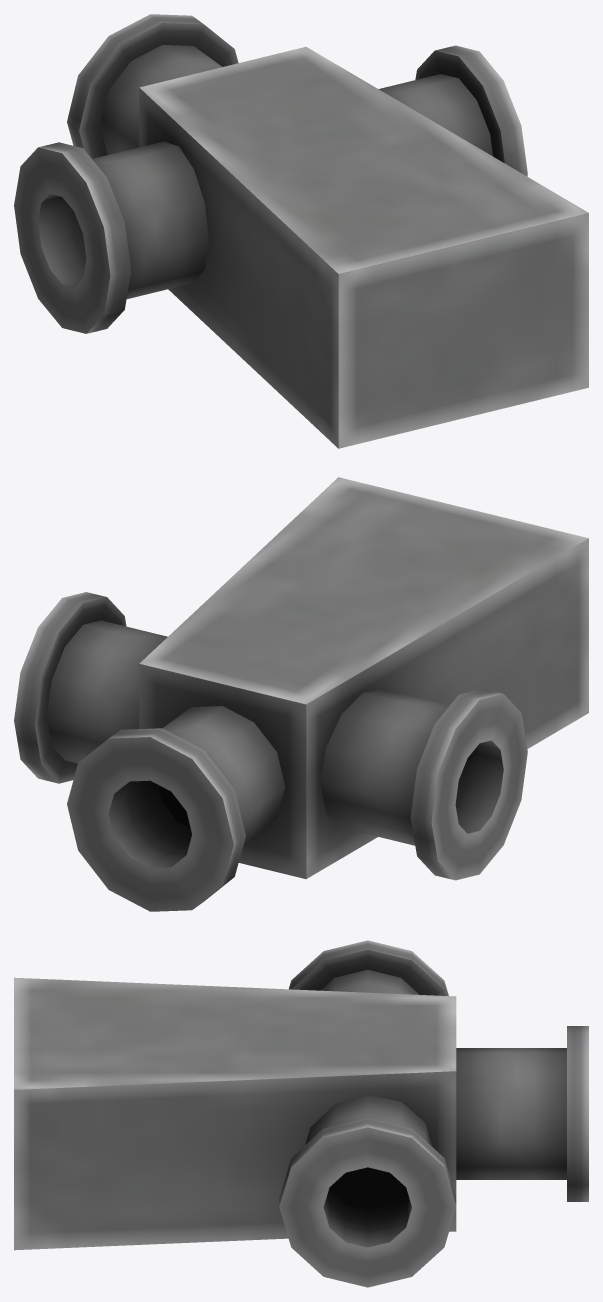
The model's file is sp_rcs_srf_2_ex.obj.
3 renders of one model, top to bottom at view 1: azimuth 30°, elevation 25°; view 2: azimuth 150°, elevation 25°; view 3: azimuth 270°, elevation 25°, orthographic. The views are drawn at different scales.
Parts seen in each view (by area): view 1: mesh1; view 2: mesh1; view 3: mesh1.
Boxes of the visible parts, x1,y1,x2,y2 form: mesh1: [14, 14, 588, 448]; mesh1: [14, 477, 588, 911]; mesh1: [14, 940, 588, 1287].
Size of the model in its own units: 0.125 by 0.05 by 0.1625.
Materials: 1 (1 with a texture image).
